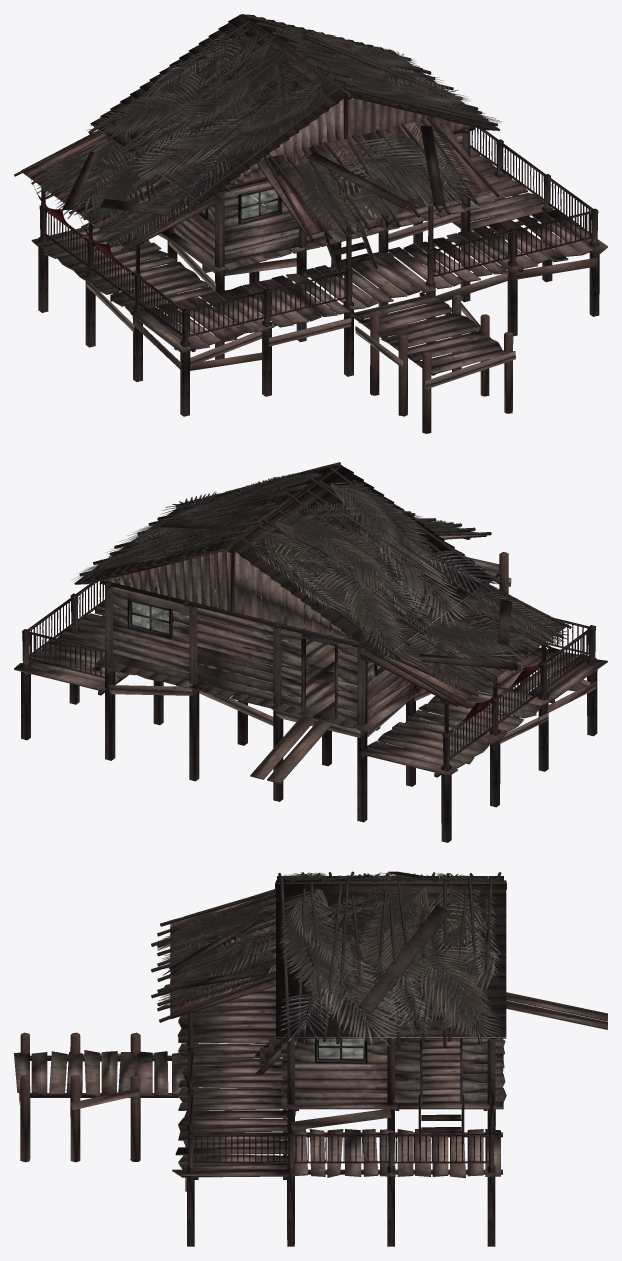
Rendered from boathouse.glb.
The picture shows the model from 3 angles, top to bottom: view 1: azimuth 30°, elevation 25°; view 2: azimuth 150°, elevation 25°; view 3: azimuth 270°, elevation 25°; orthographic projection. The views are drawn at different scales.
Visible parts, largest first — view 1: dock; view 2: dock; view 3: dock.
Part boxes in pixels (x1=…): dock: x1=14, y1=14, x2=607, y2=433; dock: x1=14, y1=462, x2=607, y2=842; dock: x1=14, y1=871, x2=607, y2=1246.
Bounding box in the file's own units: 13.35 × 7.03 × 14.45.
Materials: 29 (27 with a texture image).
